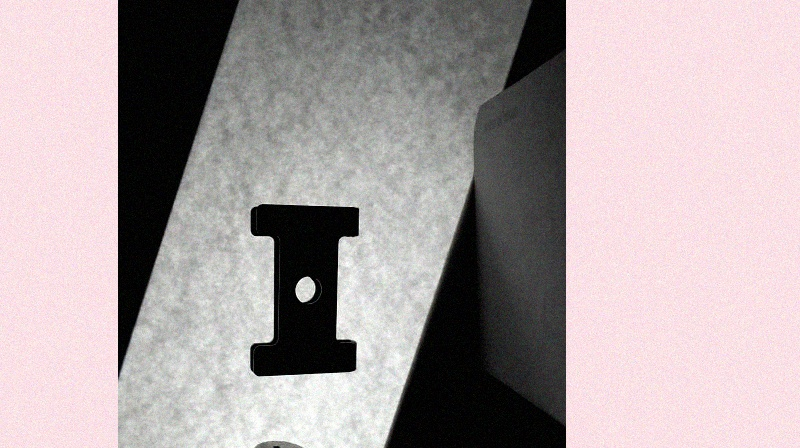O002: (246, 201, 362, 377)
S001: (247, 438, 309, 447)
